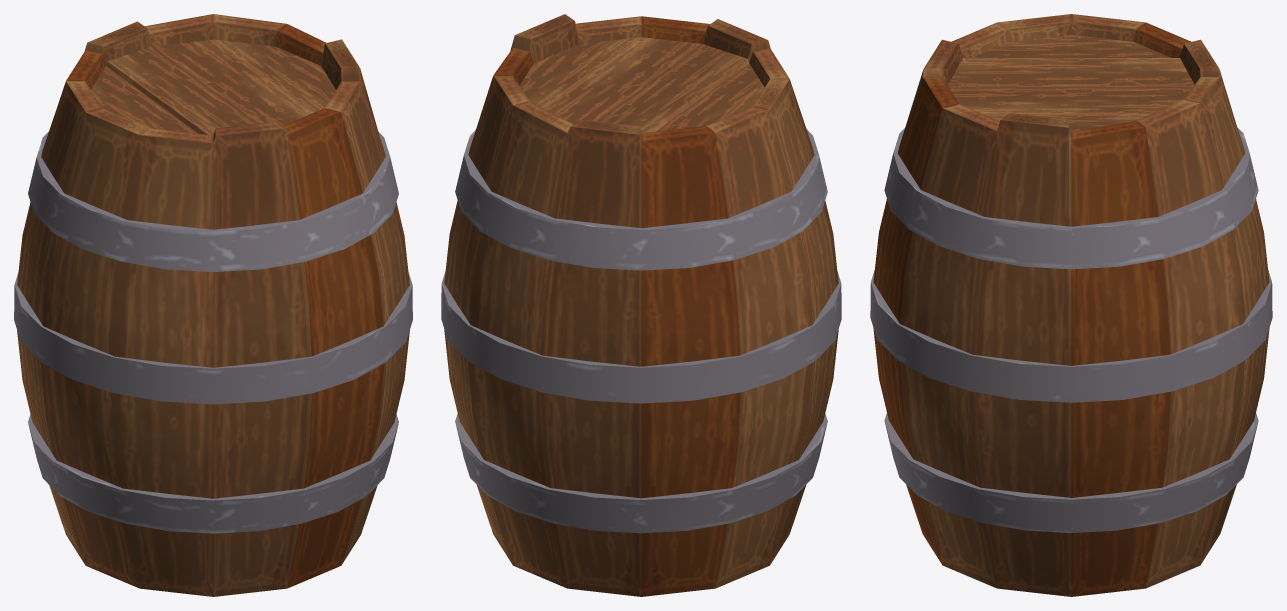
The model's file is Barrel.glb.
The picture shows the model from 3 angles, left to right: view 1: azimuth 30°, elevation 25°; view 2: azimuth 150°, elevation 25°; view 3: azimuth 270°, elevation 25°; orthographic projection.
Parts seen in each view (by area): view 1: Barrel; view 2: Barrel; view 3: Barrel.
Boxes of the visible parts, <box> form: Barrel: <box>14,14,412,596</box>; Barrel: <box>441,14,841,596</box>; Barrel: <box>870,14,1272,596</box>.
Size of the model in its own units: 0.698 by 0.898 by 0.698.
Materials: 2 (2 with a texture image).
